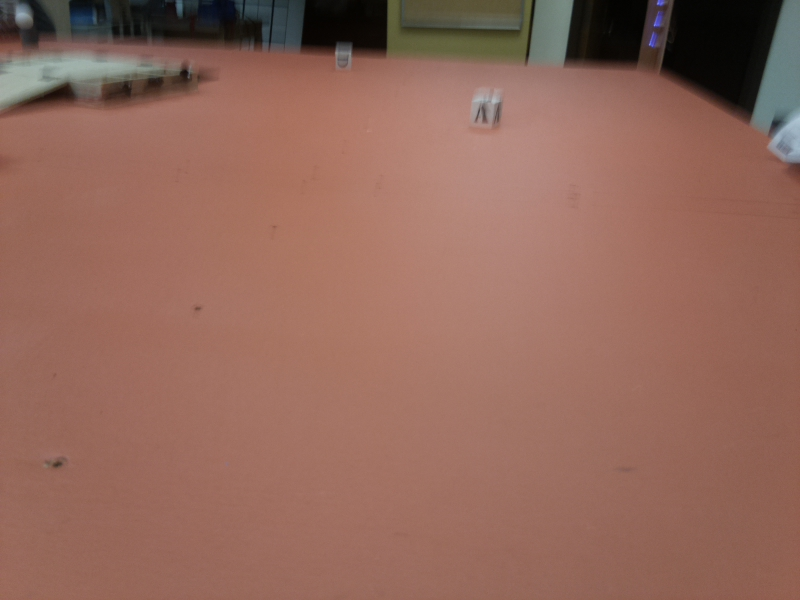blockA: (468, 87, 507, 132)
blockD: (332, 42, 354, 73)
corner: (635, 1, 672, 79)
obstacle: (17, 7, 38, 51)
side: (70, 58, 194, 111)
slope: (1, 73, 67, 109), (196, 63, 226, 80)
